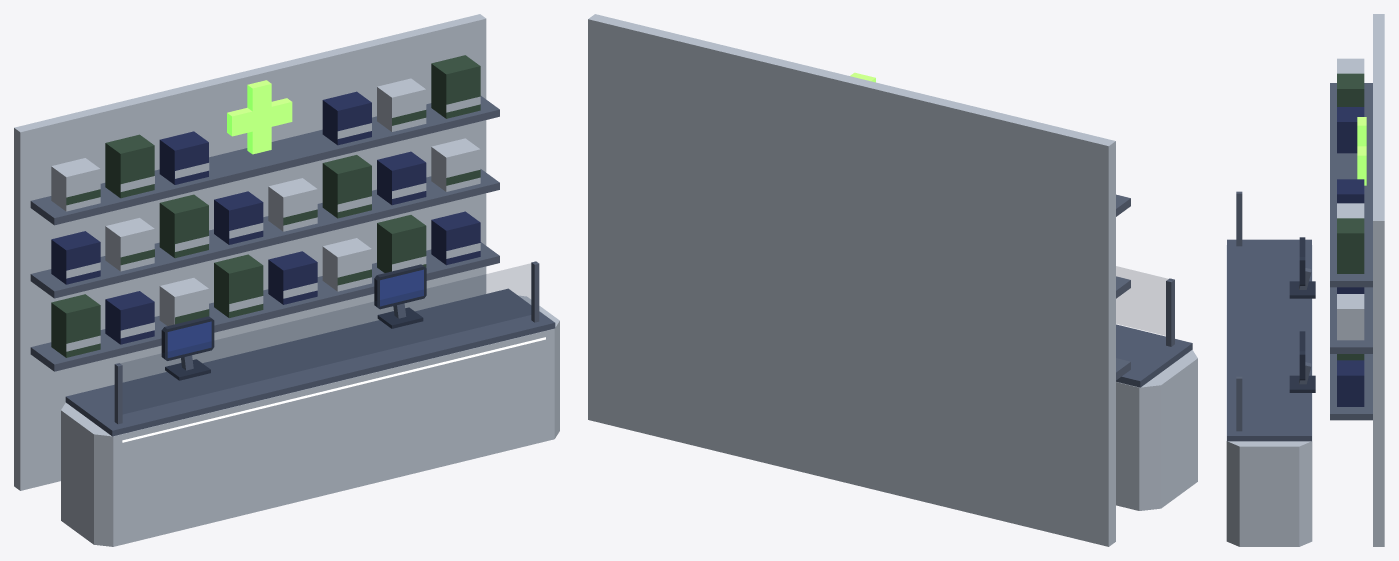
Rendered from mall_pharmacy_counter.glb.
The picture shows the model from 3 angles, left to right: view 1: azimuth 30°, elevation 25°; view 2: azimuth 150°, elevation 25°; view 3: azimuth 270°, elevation 25°; orthographic projection. The views are drawn at different scales.
Visible parts, largest first — view 1: cash_wrap, glass_post, counter_rail, guard, dispensing_pack, dispensing_pack.001, cross_arm, pos_bezel, register, task_light; view 2: cash_wrap, counter_rail, guard, glass_post; view 3: cash_wrap, counter_rail, glass_post, dispensing_pack.001, dispensing_pack, pos_bezel, cross_arm.
Boxes of the visible parts, x1,y1,x2,y2 form: cash_wrap: (14,14,559,546); glass_post: (30,96,539,424); counter_rail: (65,288,555,436); guard: (117,262,536,413); dispensing_pack: (51,55,480,357); dispensing_pack.001: (51,91,480,344); cross_arm: (227,80,292,154); pos_bezel: (161,264,426,380); register: (167,269,423,357); task_light: (122,337,545,442); cash_wrap: (588,14,1197,546); counter_rail: (1116,324,1192,387); guard: (1116,266,1172,335); glass_post: (1116,194,1174,380); cash_wrap: (1226,14,1384,546); counter_rail: (1227,239,1311,441); glass_post: (1236,83,1372,431); dispensing_pack.001: (1337,107,1364,406); dispensing_pack: (1337,73,1364,360); pos_bezel: (1289,237,1315,392); cross_arm: (1357,117,1366,185).
Bounding box in the file's own units: 3.4 × 2.5 × 1.1.
